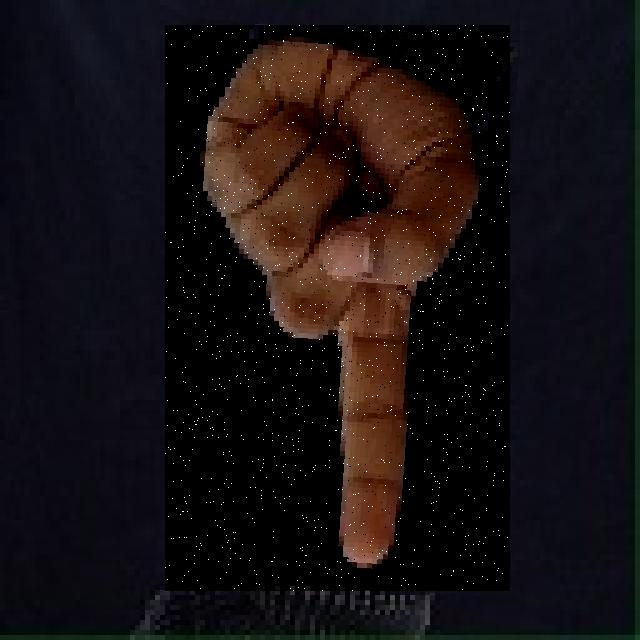IloveYou: (165, 25, 510, 591)
